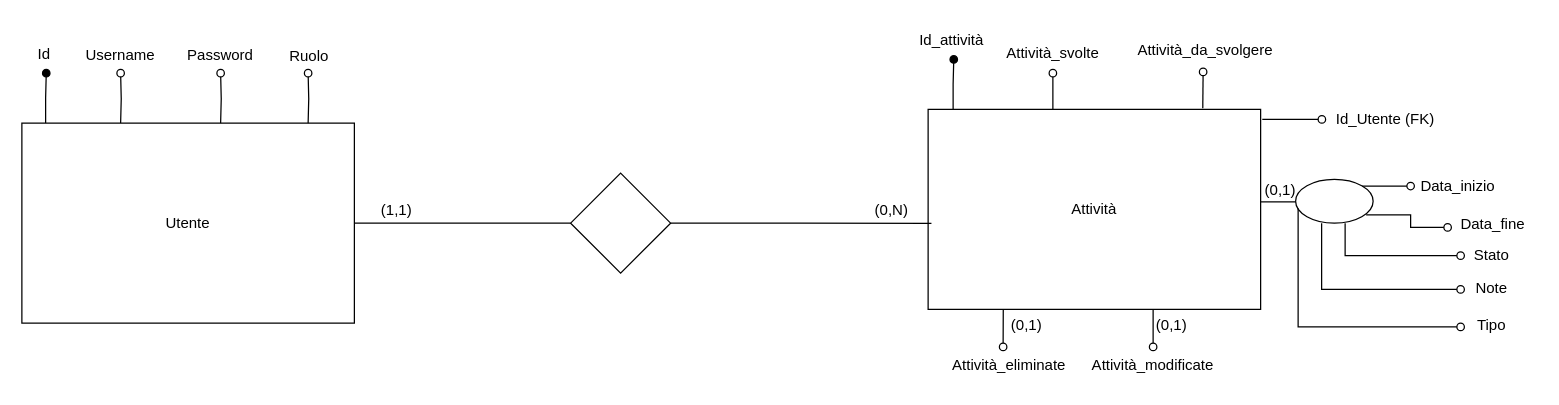
The diagram is 1559 pixels wide and 405 high, and some of its shapes have lost their labels. The centre of each missing label's shape, as x and y in pixels:
"Ha" belongs at pixel 620 222.
"Informazioni" belongs at pixel 1333 200.
